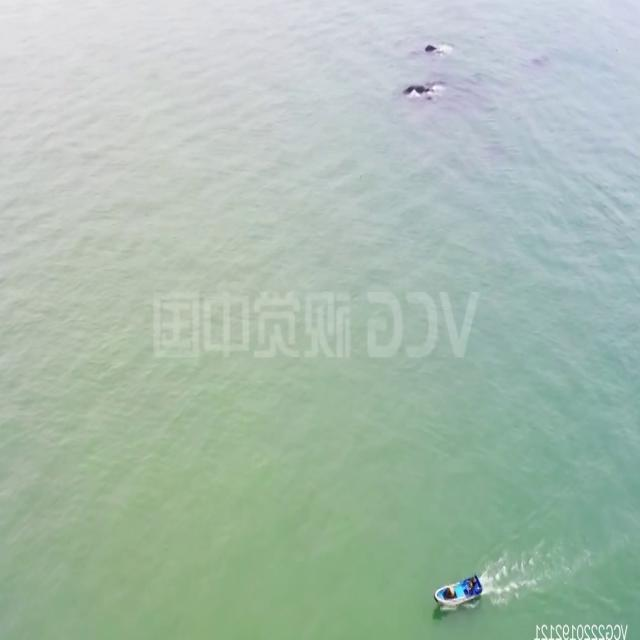fishing boat: (431, 565, 483, 612)
